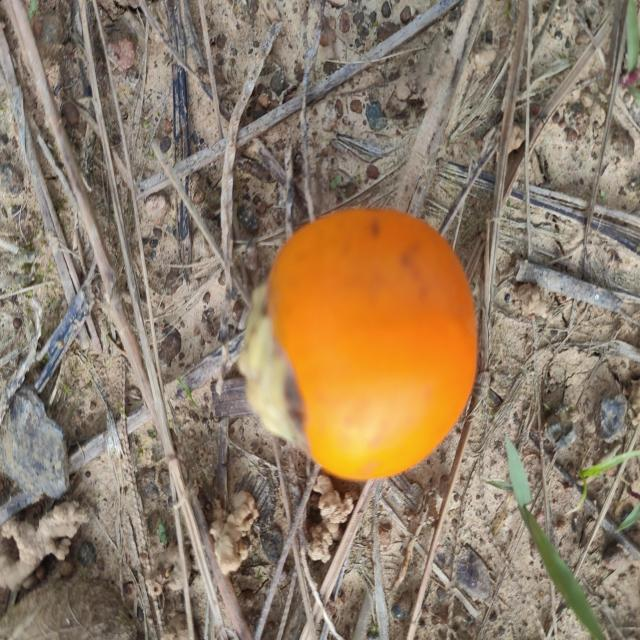good: (238, 209, 477, 480)
